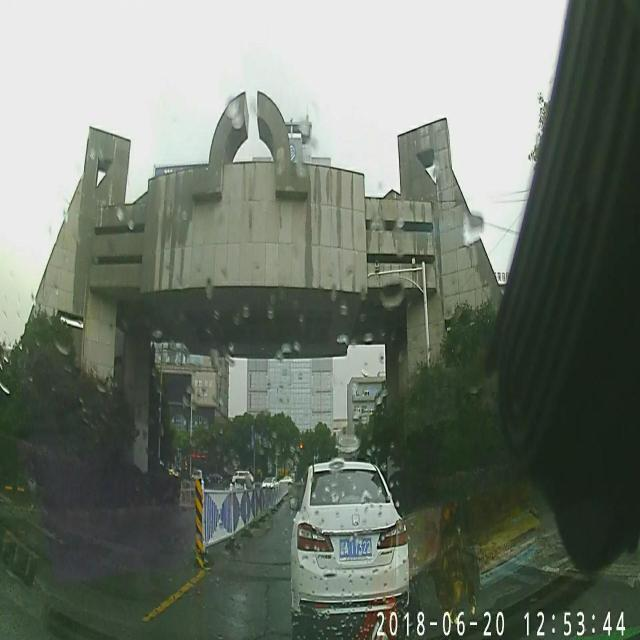car: (290, 462, 408, 627)
